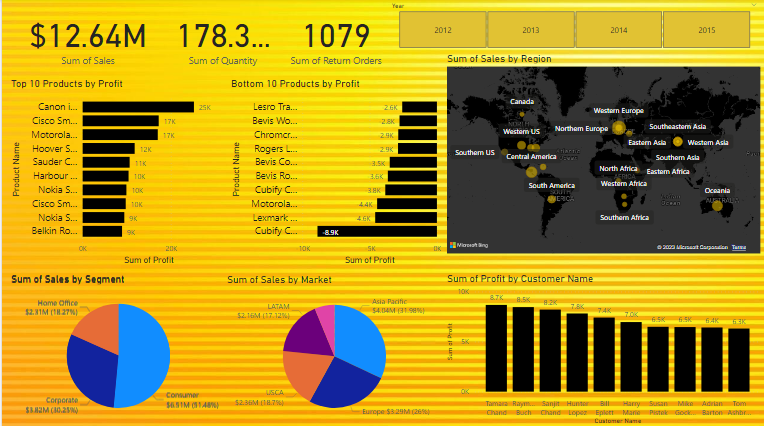

The dashboard page shown, as its layout file describes it:
{"tool":"powerbi","page":{"name":"Page 1","canvas":[1280,720],"ordinal":0},"visuals":[{"type":"card","fields":{"Values":["Orders.Sales"]},"box":[9.5,0,268.5,130.5],"z":0},{"type":"card","fields":{"Values":["Orders.Quantity"]},"box":[277.9,0,187.2,130.5],"z":1000},{"type":"slicer","fields":{"Values":["Orders.Year"]},"box":[640.9,0,639.1,88.9],"z":2000},{"type":"card","fields":{"Values":["Returns.Return Orders"]},"box":[465.1,0,191,130.5],"z":3000},{"type":"map","fields":{"Category":["Orders.Region"],"Size":["Orders.Sales"]},"box":[743,88.9,537,344.1],"z":4000},{"type":"barChart","title":"Top 10 Products by Profit","fields":{"Y":["Orders.Profit"],"Category":["Orders.Product Name"]},"box":[9.5,130.5,363,319.5],"z":5000},{"type":"barChart","title":"Bottom 10 Products by Profit","fields":{"Y":["Orders.Profit"],"Category":["Orders.Product Name"]},"box":[380,130.5,363,319.5],"z":6000},{"type":"pieChart","fields":{"Category":["Orders.Segment"],"Y":["Orders.Sales"]},"box":[9.5,459.4,370.6,260.9],"z":6001},{"type":"pieChart","fields":{"Category":["Orders.Segment"],"Y":["Orders.Sales"]},"box":[9.5,459.1,370.6,260.9],"z":6002},{"type":"pieChart","fields":{"Y":["Orders.Sales"],"Category":["Orders.Market"]},"box":[372.5,459.4,370.6,260.9],"z":6003},{"type":"columnChart","fields":{"Y":["Orders.Profit"],"Category":["Orders.Customer Name"]},"box":[743,459,537,261],"z":6004}]}

Visuals, with their boxes in screenshot pixels (x1, y1, x2, y2), scaled from the page's 1280x720 canvas onto the 764x426 screenshot:
card - Orders.Sales: [6, 0, 166, 77]
card - Orders.Quantity: [166, 0, 278, 77]
slicer - Orders.Year: [383, 0, 763, 53]
card - Returns.Return Orders: [278, 0, 392, 77]
map - Orders.Region x Orders.Sales: [443, 53, 763, 256]
"Top 10 Products by Profit" barChart: [6, 77, 222, 266]
"Bottom 10 Products by Profit" barChart: [227, 77, 443, 266]
pieChart - Orders.Segment x Orders.Sales: [6, 272, 227, 425]
pieChart - Orders.Segment x Orders.Sales: [6, 272, 227, 425]
pieChart - Orders.Sales x Orders.Market: [222, 272, 444, 425]
columnChart - Orders.Profit x Orders.Customer Name: [443, 272, 763, 425]
